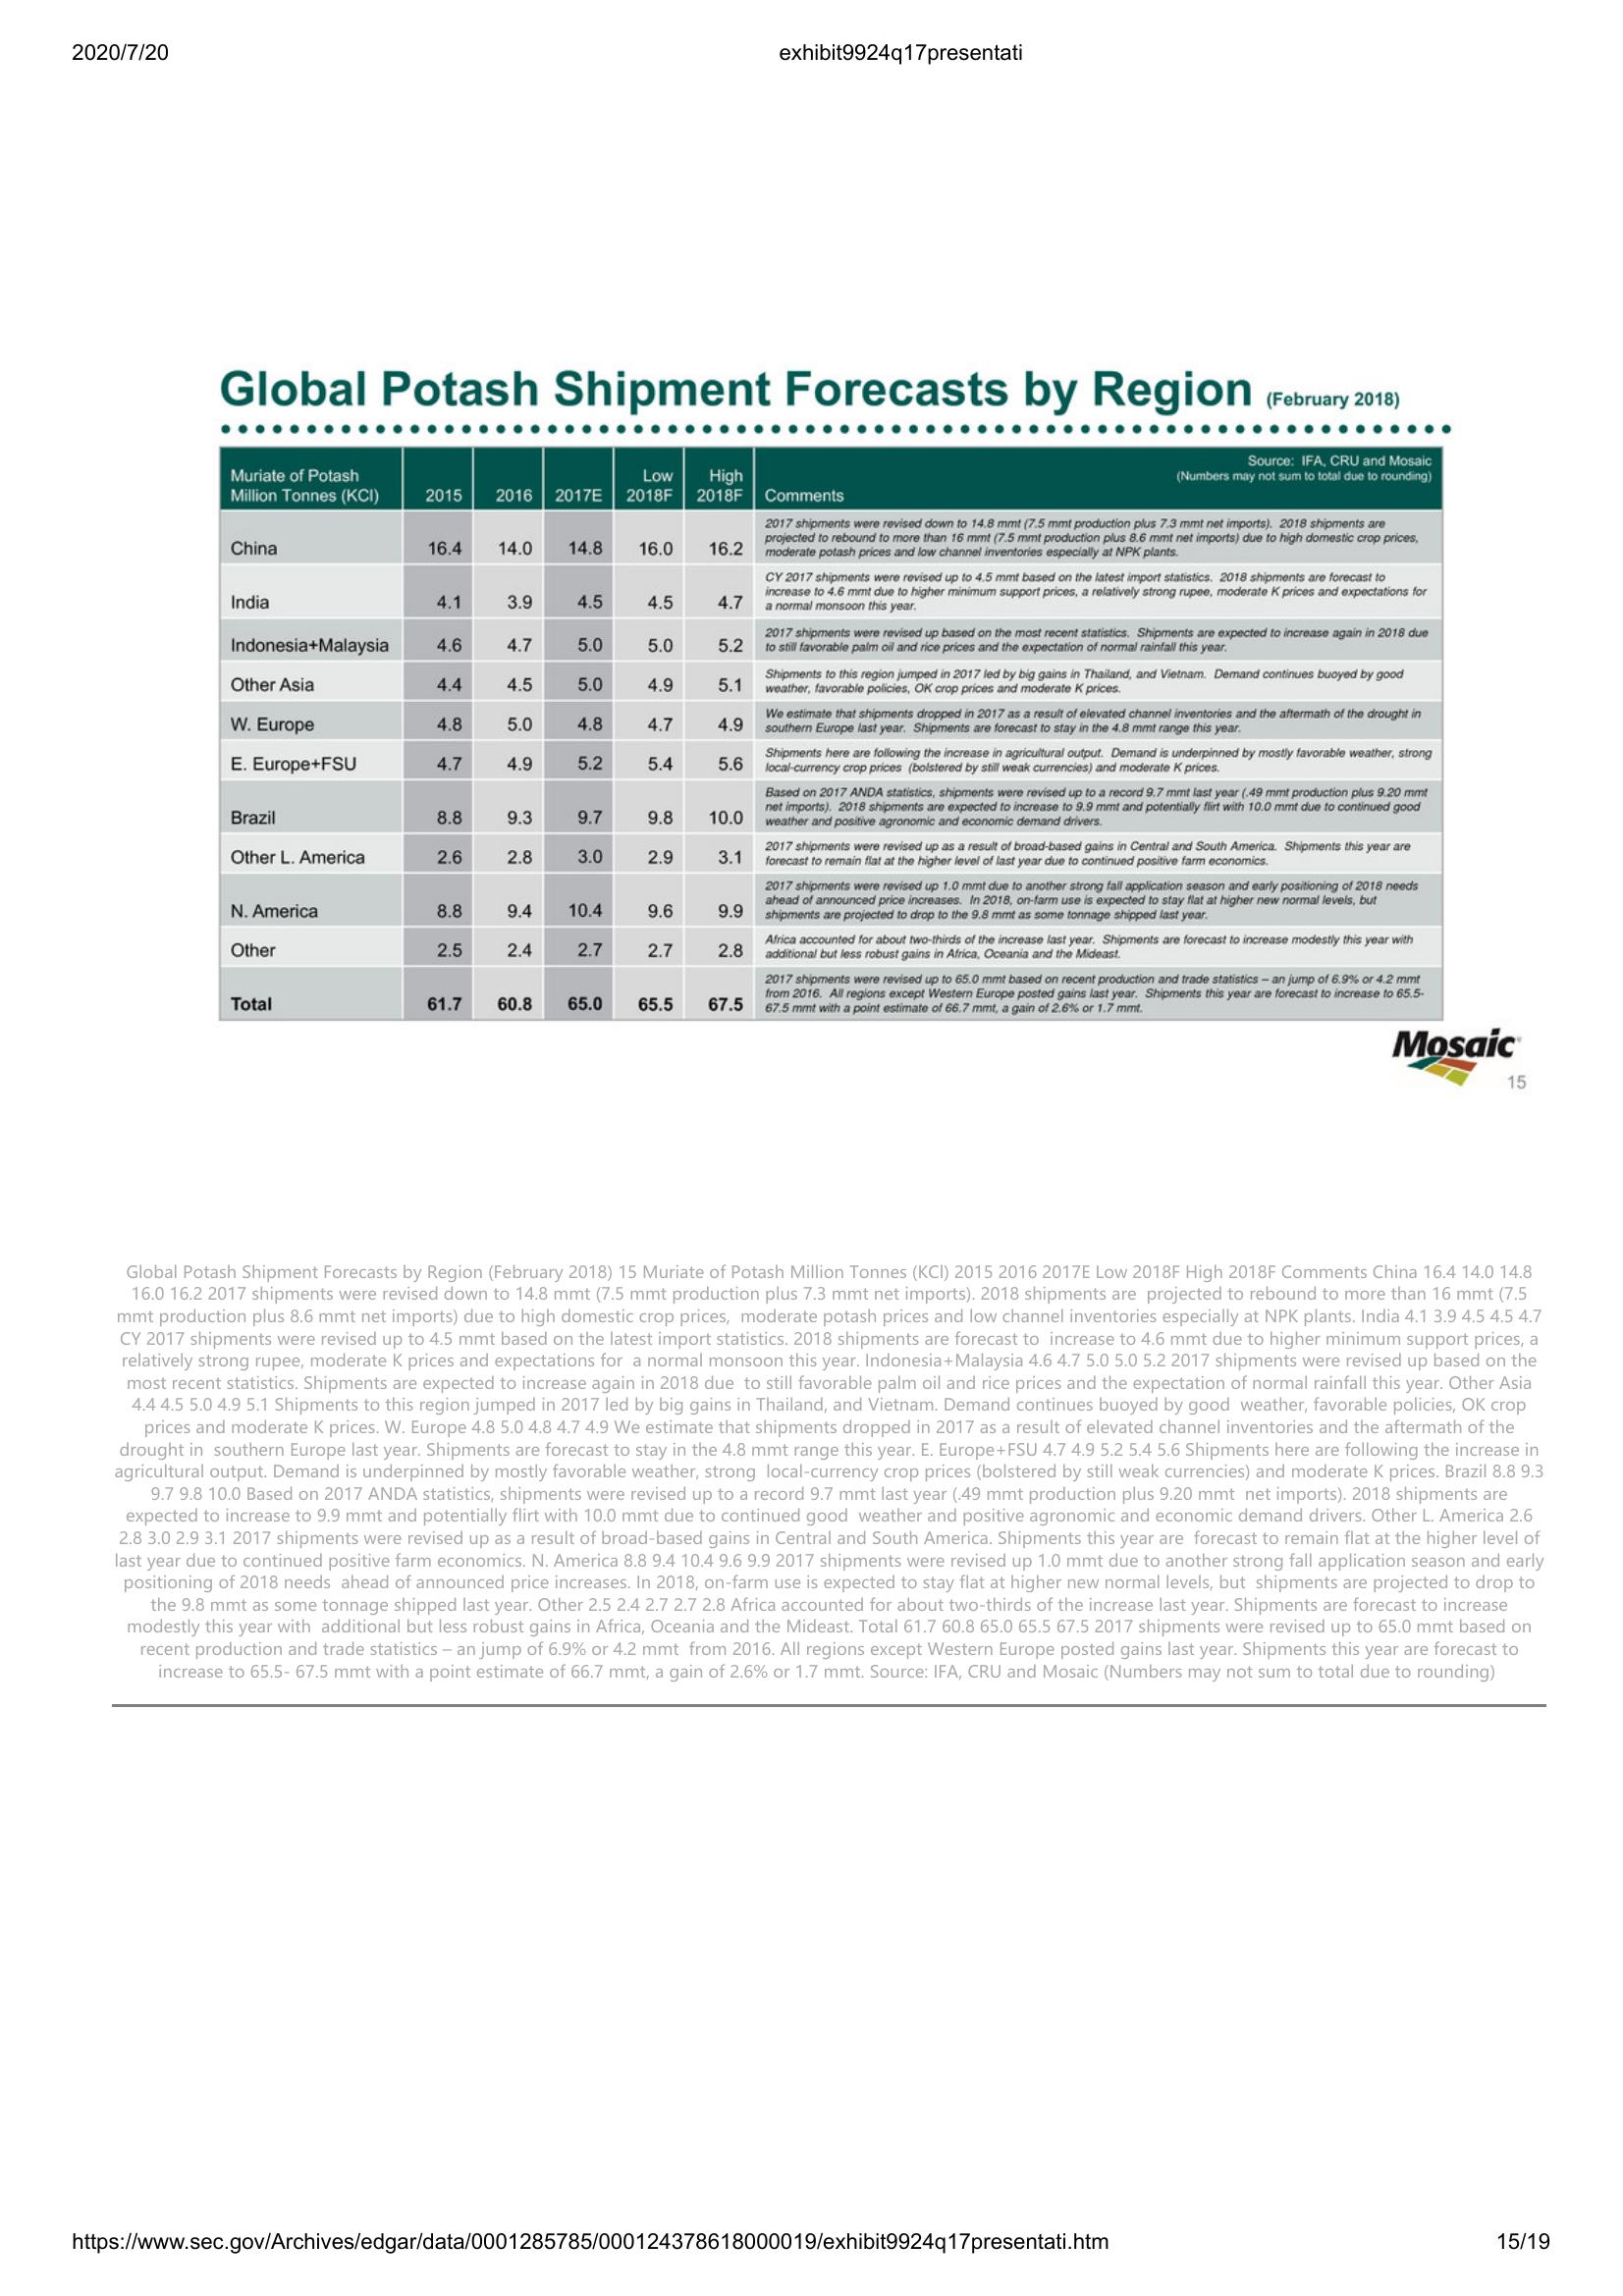table: (214, 437, 1451, 1027)
